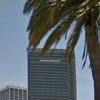Palm tree: (22, 1, 99, 76)
